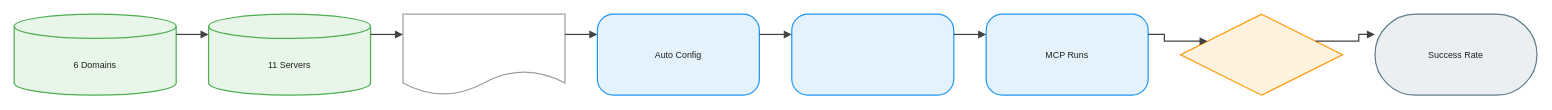
This 1552x110 diagram has some shape labels left out. Here are the shapes that lost their labels. From the top down, the centre of each, then its label:
the point at 483,54: 231 Tasks
the point at 872,54: Agent Builder
the point at 1261,54: 3 Evaluators
